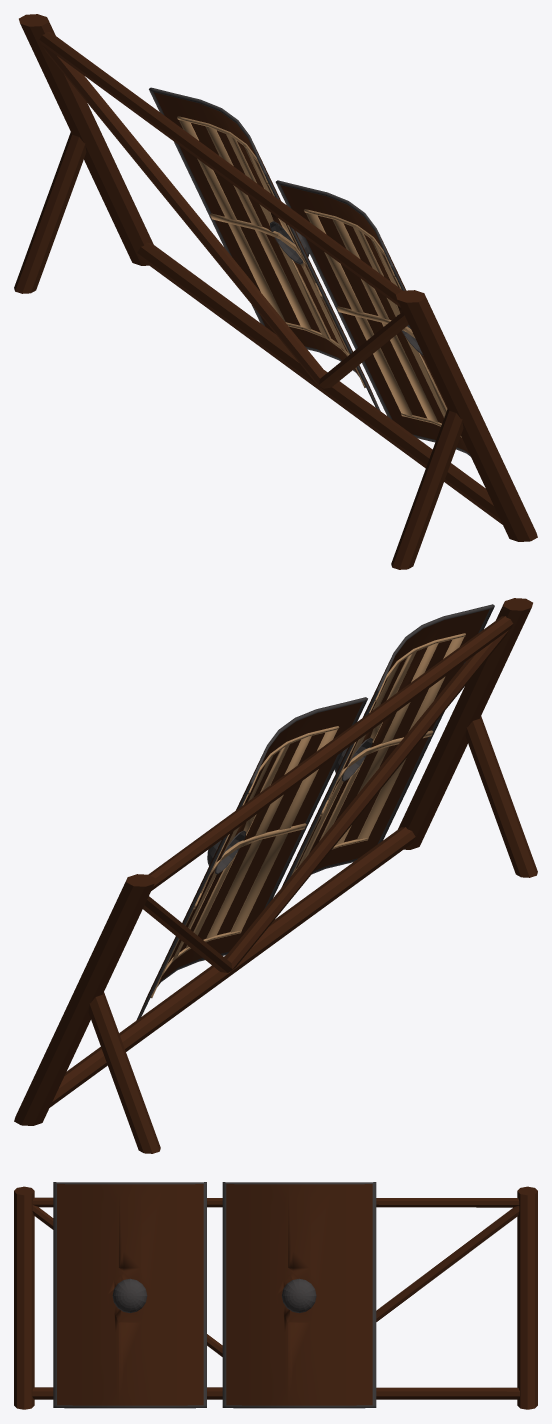
Rendered from Scutum Ständer Ver 2.fbx.
3 renders of one model, top to bottom at view 1: azimuth 30°, elevation 25°; view 2: azimuth 150°, elevation 25°; view 3: azimuth 270°, elevation 25°, orthographic. The views are drawn at different scales.
Visible parts, largest first — view 1: Scutum Ständer Ver 2; view 2: Scutum Ständer Ver 2; view 3: Scutum Ständer Ver 2.
Part boxes in pixels (box(x1,y1,x2,y2)): Scutum Ständer Ver 2: box(14, 14, 537, 569); Scutum Ständer Ver 2: box(14, 598, 537, 1153); Scutum Ständer Ver 2: box(14, 1182, 537, 1409).
Size of the model in its own units: 57.45 by 97.83 by 239.
